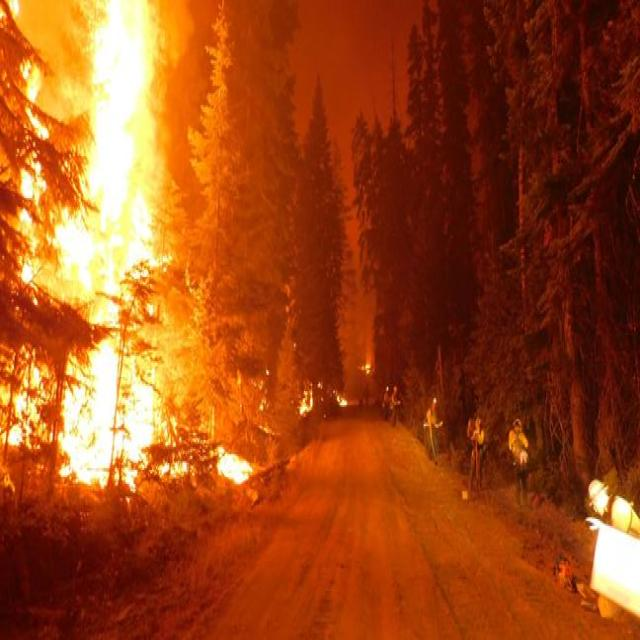Fire: (0, 0, 253, 491)
